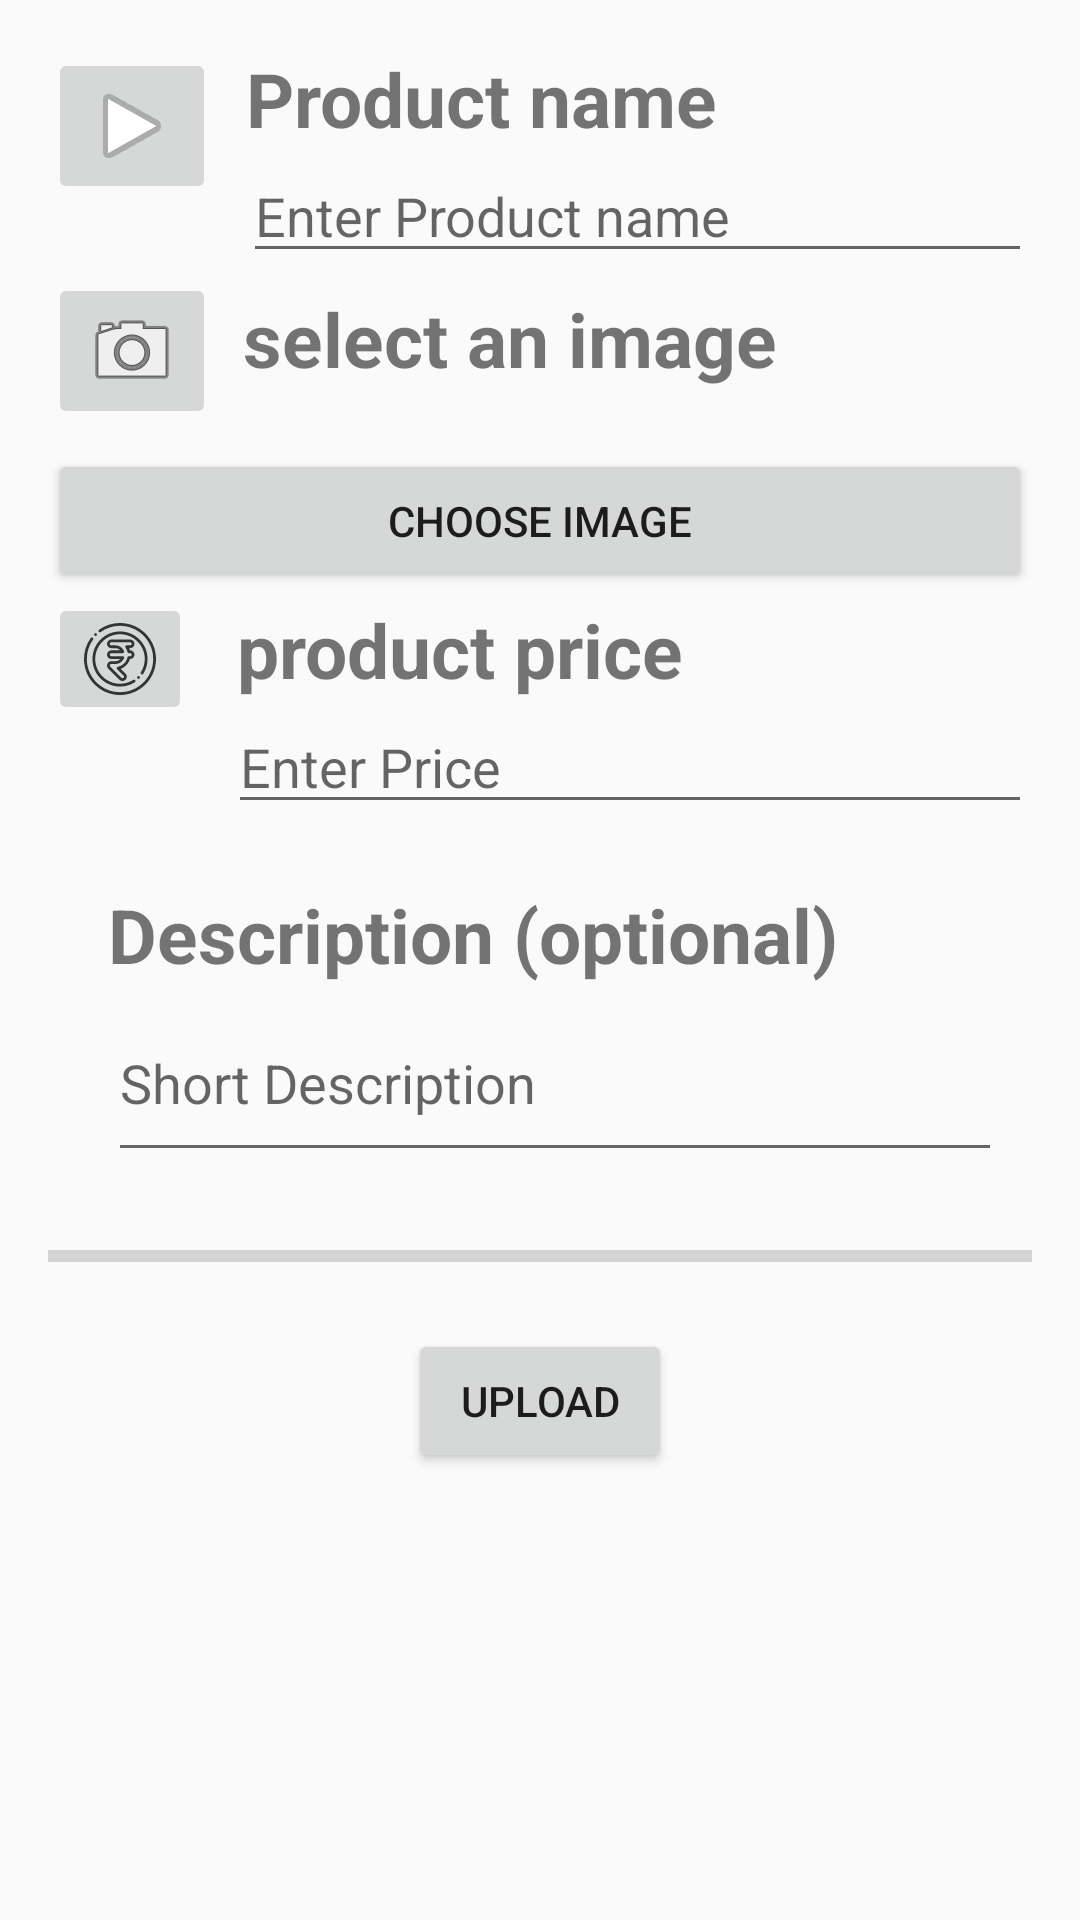

Icons on this 1080 × 1920 Android screen, each with the point to tap as [x,y]:
camera: [132,351]
play: [132,126]
rupee: [120,659]
